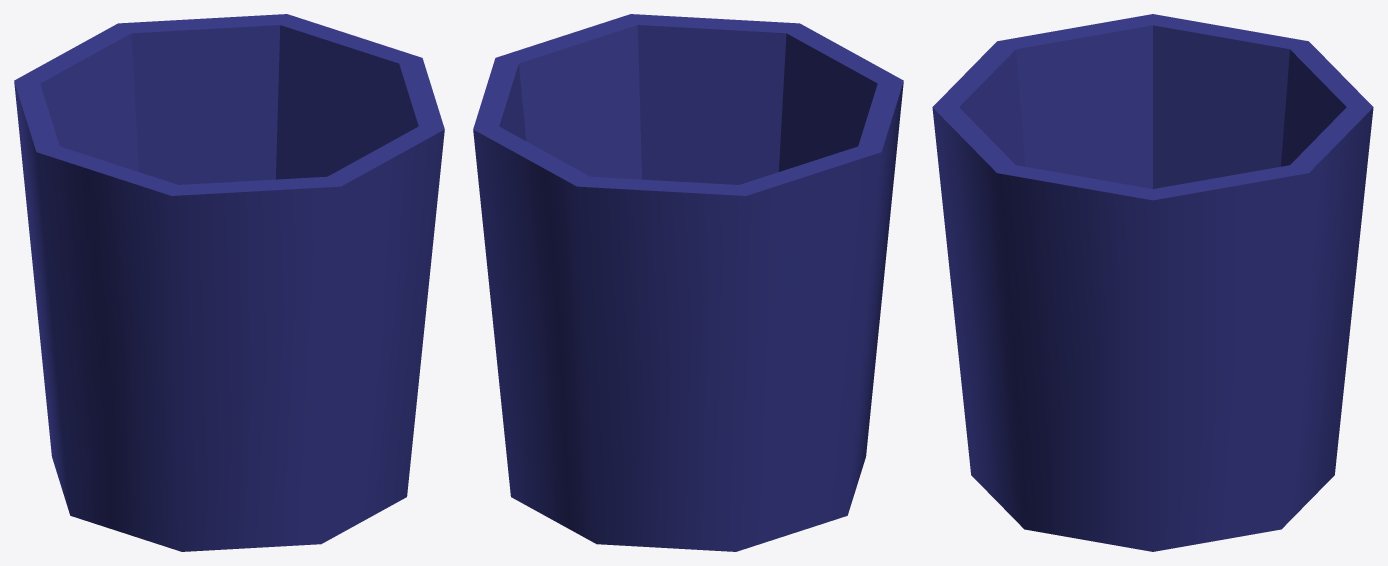
The model's file is penholder.fbx.
3 views of the same model, side by side, from view 1: azimuth 30°, elevation 25°; view 2: azimuth 150°, elevation 25°; view 3: azimuth 270°, elevation 25° (orthographic).
Visible parts, largest first — view 1: Cylinder004; view 2: Cylinder004; view 3: Cylinder004.
Part boxes in pixels (box(x1,y1,x2,y2)): Cylinder004: box(14, 14, 444, 551); Cylinder004: box(473, 14, 903, 551); Cylinder004: box(932, 14, 1373, 551).
Size of the model in its own units: 2.71 by 2.5 by 2.71.
